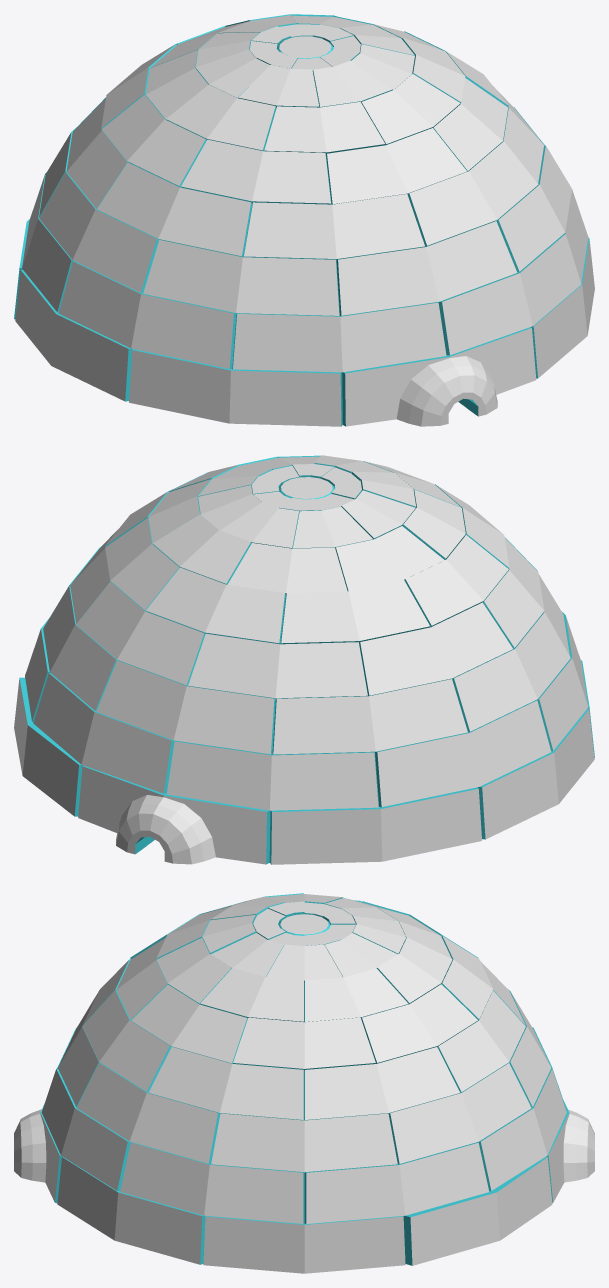
Rendered from Igloo.fbx.
The picture shows the model from 3 angles, top to bottom: view 1: azimuth 30°, elevation 25°; view 2: azimuth 150°, elevation 25°; view 3: azimuth 270°, elevation 25°; orthographic projection. The views are drawn at different scales.
Visible parts, largest first — view 1: Igloo; view 2: Igloo; view 3: Igloo.
Part boxes in pixels (x1,y1,x2,y2): Igloo: (14, 14, 594, 426); Igloo: (14, 455, 594, 864); Igloo: (14, 893, 594, 1273).
Size of the model in its own units: 163 by 79.59 by 176.
